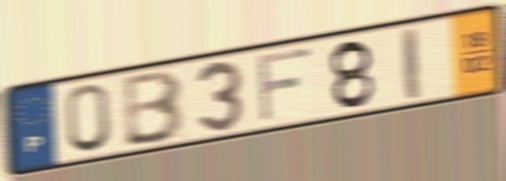0: (63, 82, 114, 155)
3: (194, 57, 245, 135)
8: (327, 38, 376, 111)
B: (122, 66, 188, 150)
F: (254, 44, 315, 127)
I: (398, 24, 424, 103)
